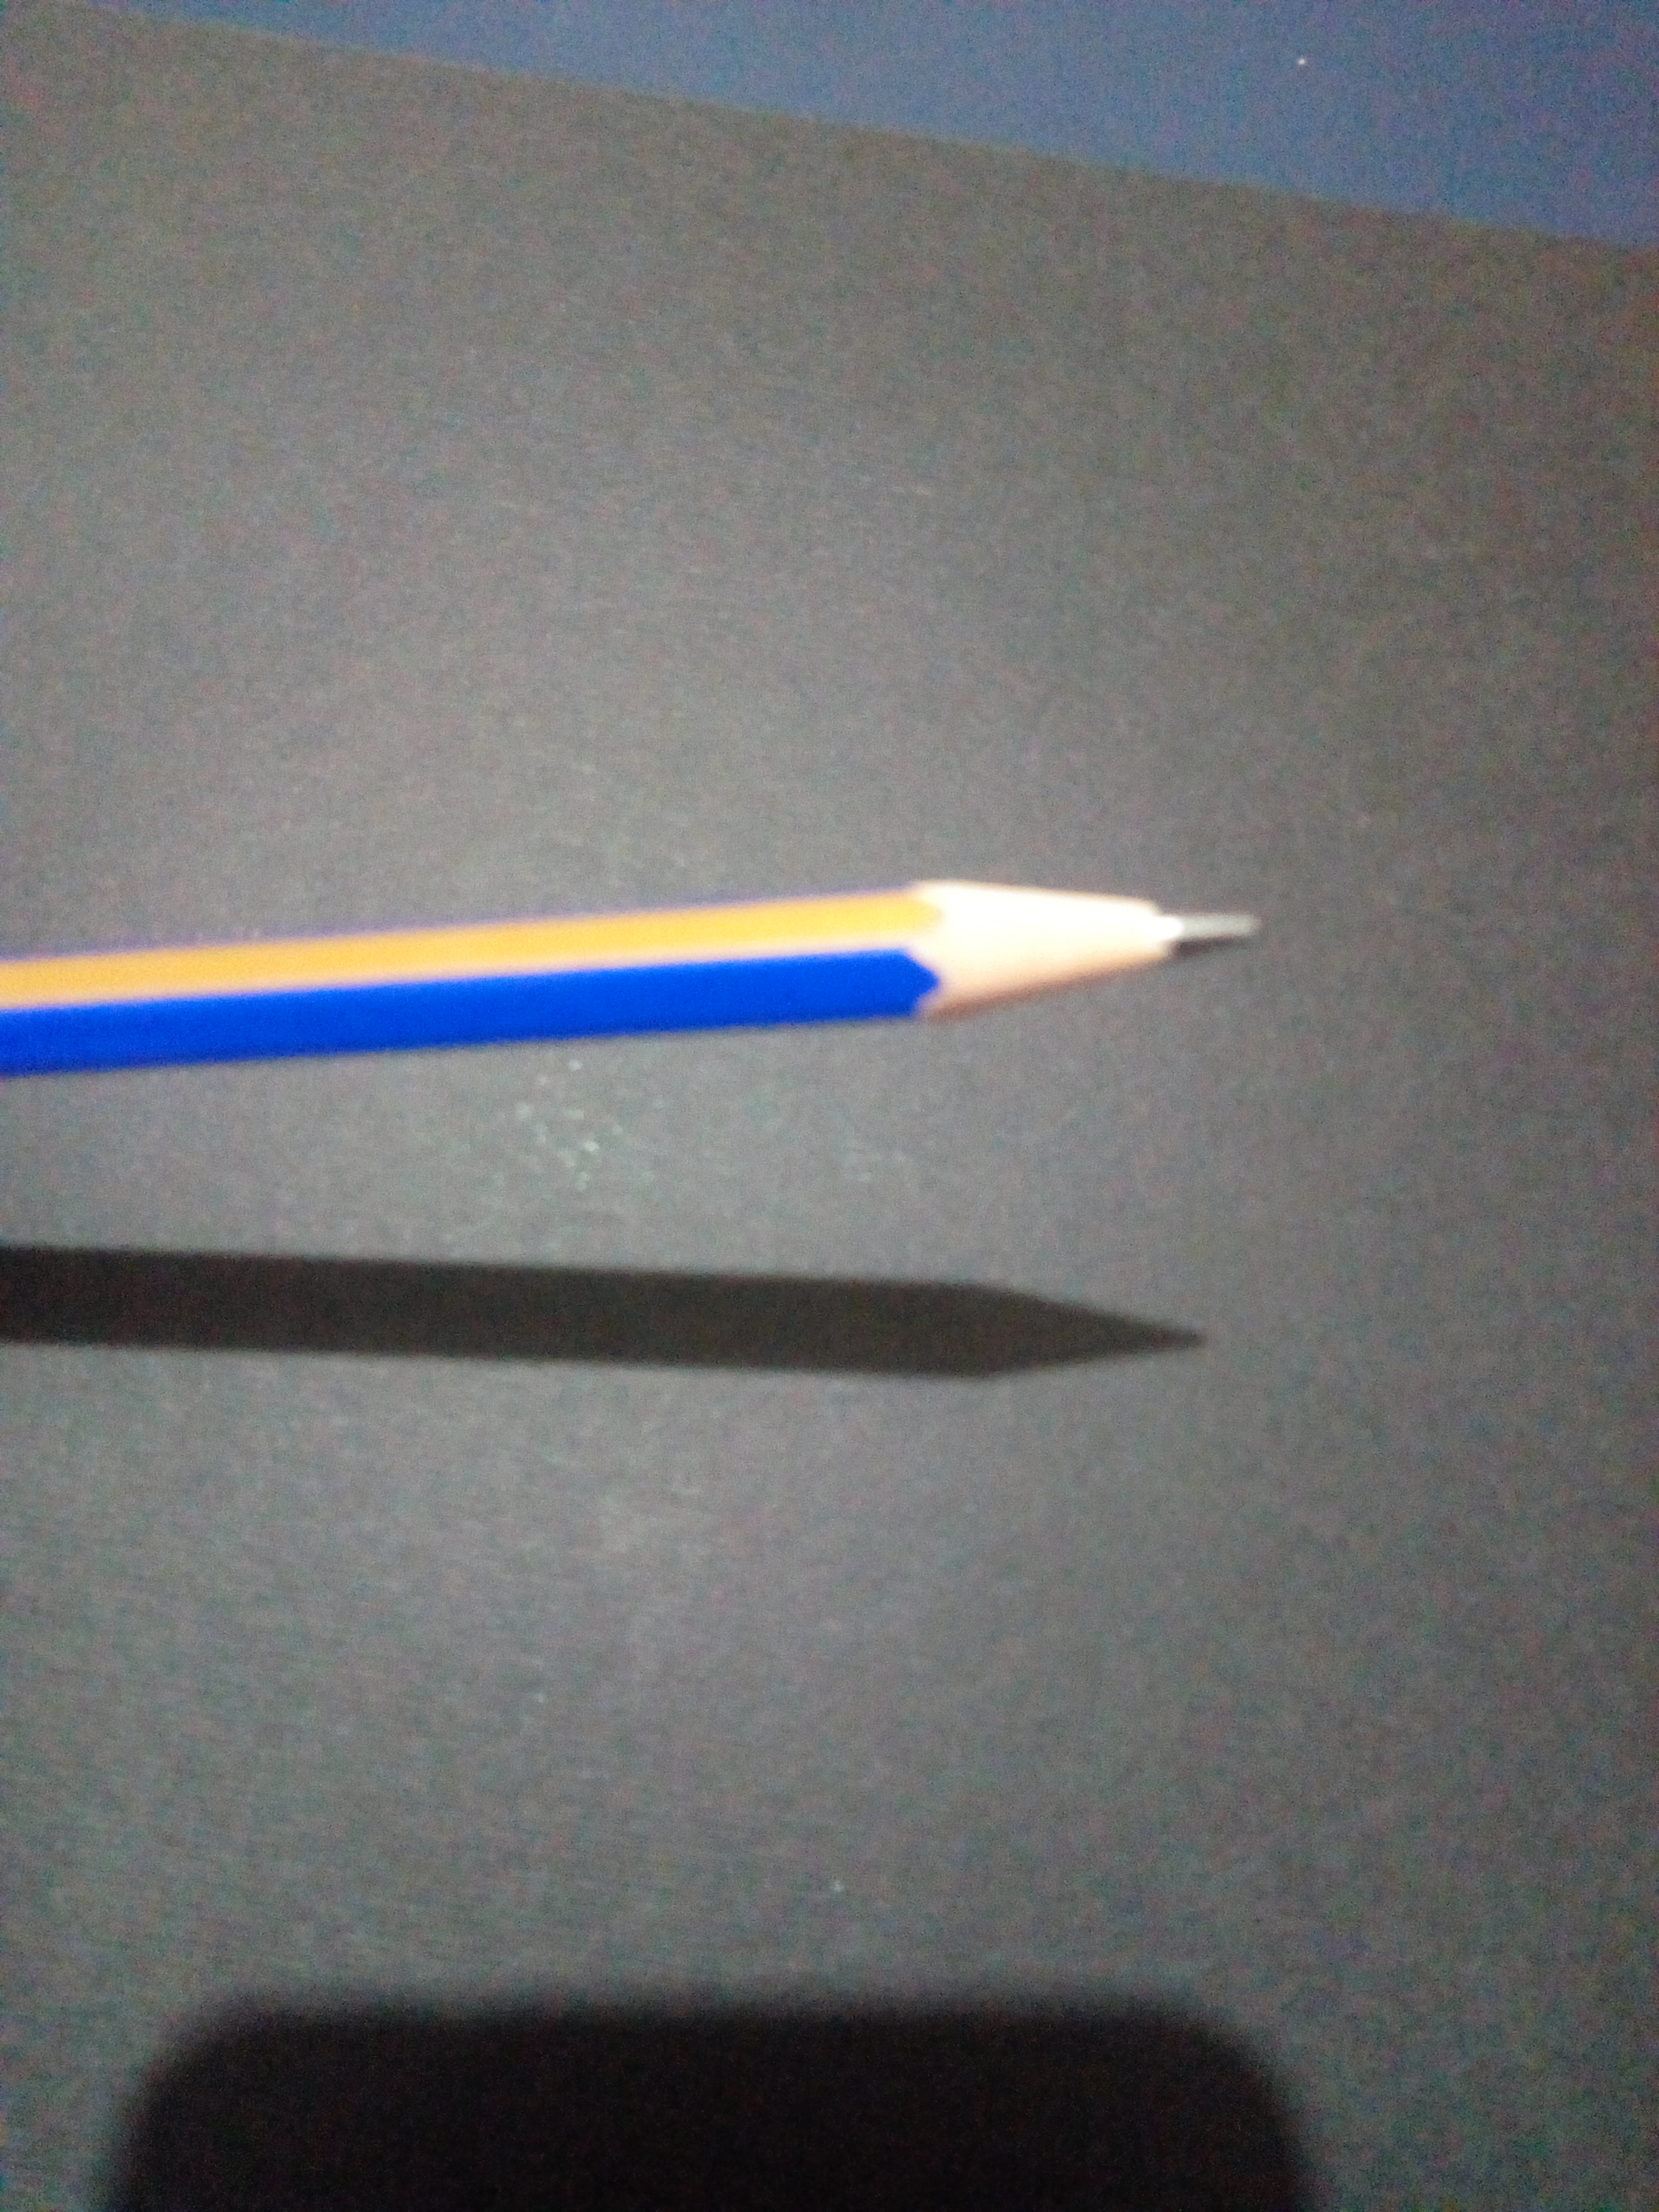pen_tip: (779, 824, 1328, 1076)
